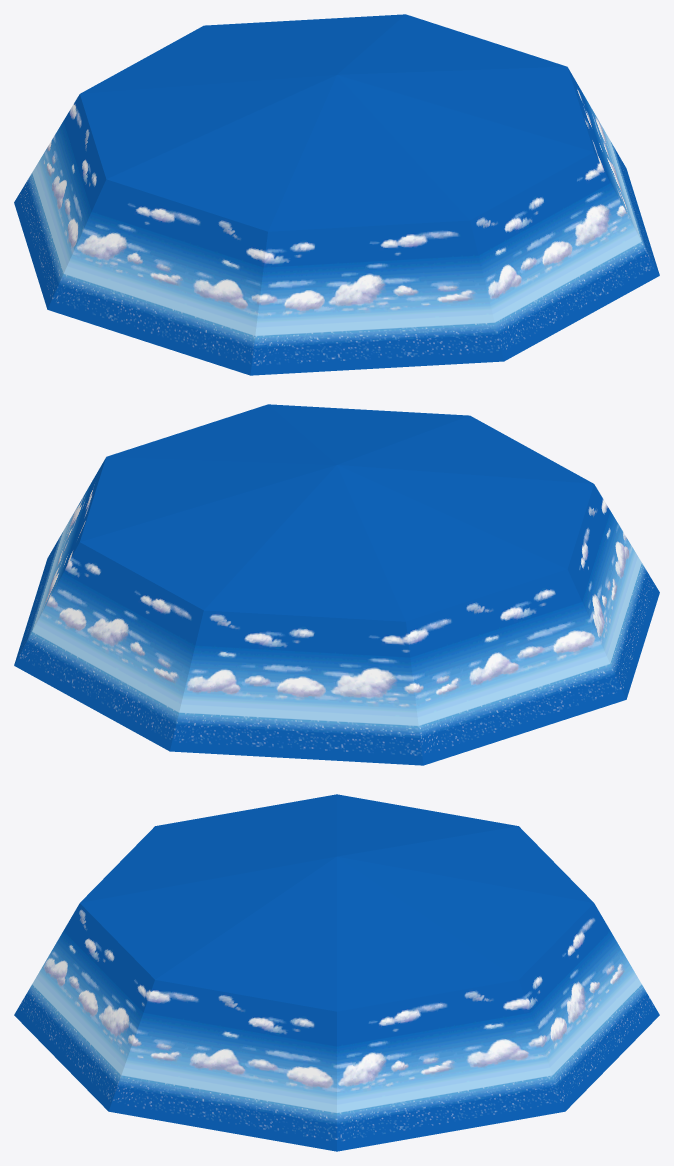
Rendered from mario_course_V.glb.
3 views of the same model, one above another, from view 1: azimuth 30°, elevation 25°; view 2: azimuth 150°, elevation 25°; view 3: azimuth 270°, elevation 25° (orthographic). The views are drawn at different scales.
Visible parts, largest first — view 1: mario_course_V; view 2: mario_course_V; view 3: mario_course_V.
Boxes of the visible parts, <box> form: mario_course_V: <box>14,14,659,375</box>; mario_course_V: <box>14,404,659,765</box>; mario_course_V: <box>14,794,659,1151</box>.
Size of the model in its own units: 745 by 202 by 745.
Materials: 1 (1 with a texture image).
